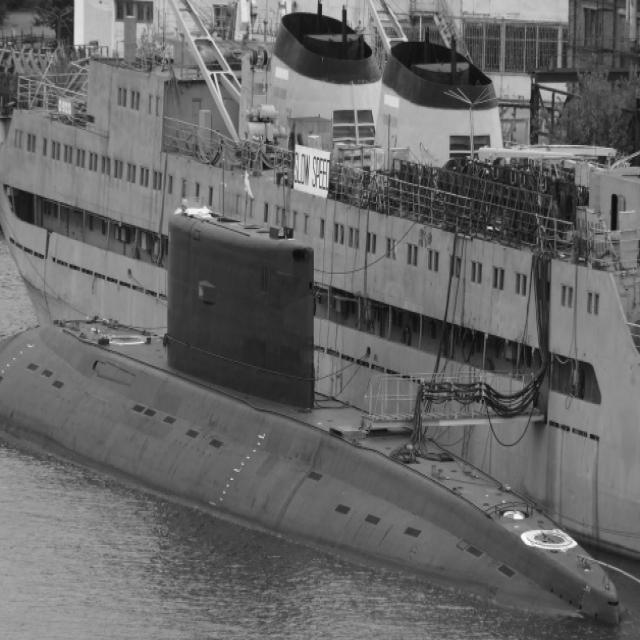submarine: (1, 204, 637, 622)
